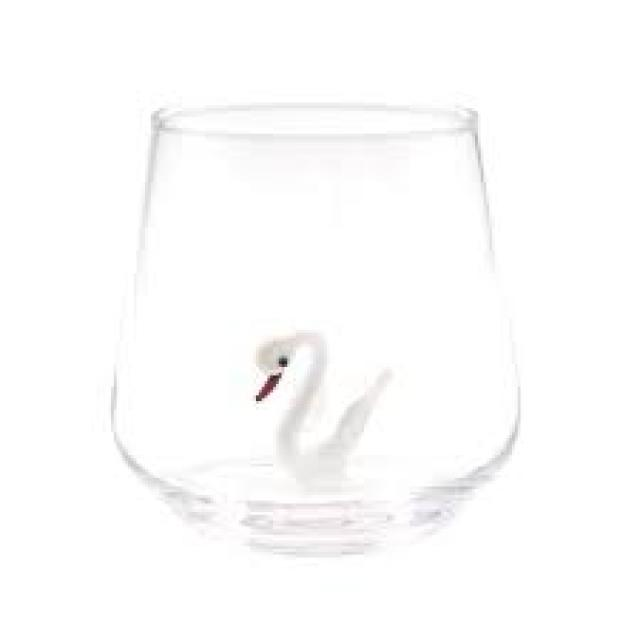Dry: (106, 99, 525, 553)
